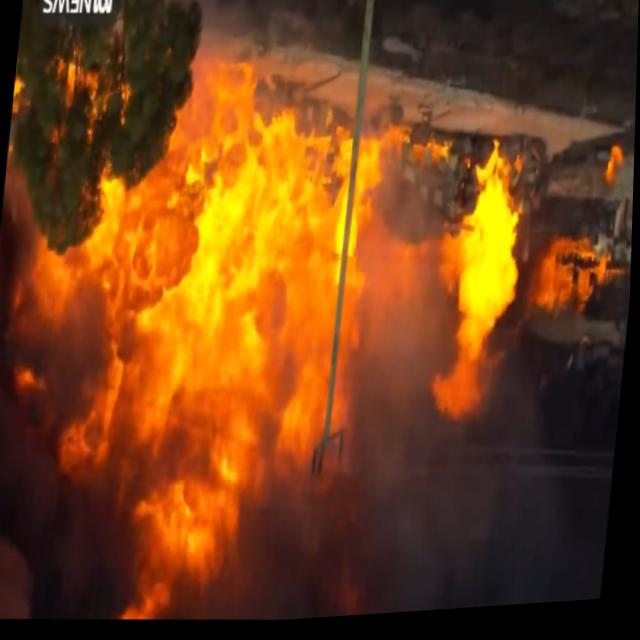Fire: (0, 27, 590, 640), (595, 153, 632, 209)
